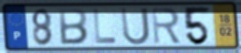5: (182, 5, 212, 46)
8: (30, 7, 55, 47)
B: (58, 8, 89, 46)
L: (92, 8, 119, 46)
R: (150, 7, 183, 46)
U: (119, 7, 152, 47)
